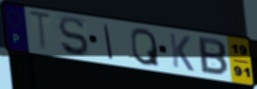B: (197, 35, 230, 78)
I: (102, 22, 115, 61)
K: (167, 31, 196, 74)
Q: (130, 27, 162, 68)
S: (57, 16, 91, 58)
T: (27, 9, 54, 54)
